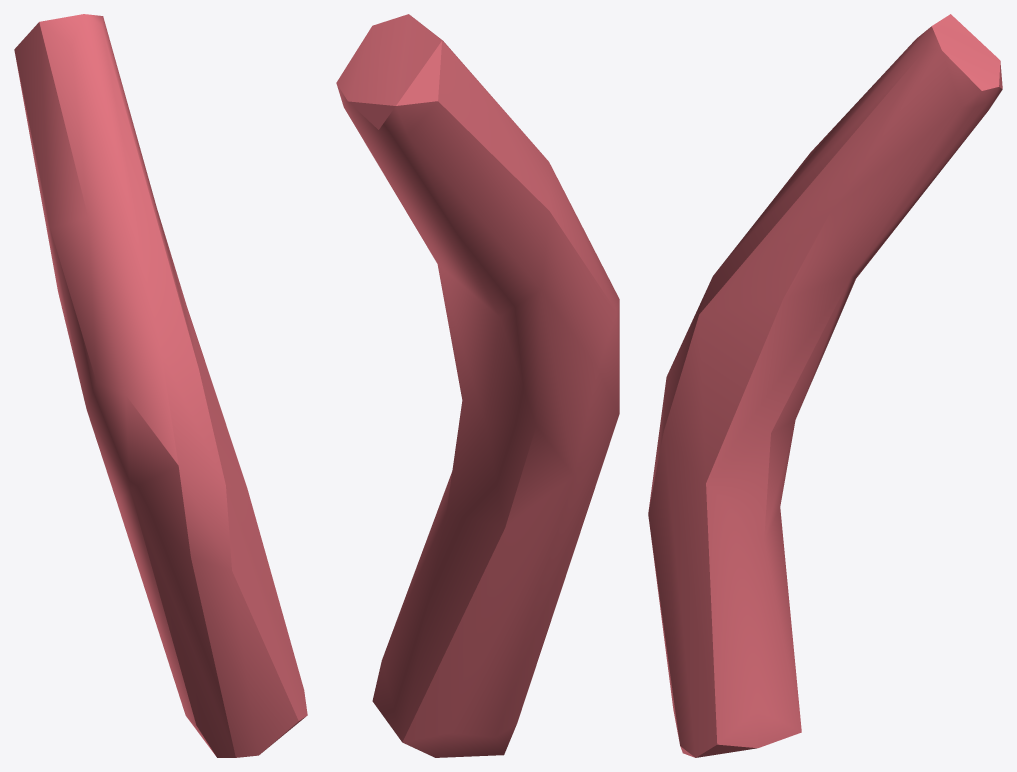
File: fma8617_fj6085.glb
3 renders of one model, left to right at view 1: azimuth 30°, elevation 25°; view 2: azimuth 150°, elevation 25°; view 3: azimuth 270°, elevation 25°, orthographic. The views are drawn at different scales.
Visible parts, largest first — view 1: FMA8617_FJ6085; view 2: FMA8617_FJ6085; view 3: FMA8617_FJ6085.
Boxes of the visible parts, bbox=[...] form: FMA8617_FJ6085: bbox=[14, 14, 307, 757]; FMA8617_FJ6085: bbox=[336, 14, 619, 757]; FMA8617_FJ6085: bbox=[648, 14, 1002, 757].
Size of the model in its own units: 0.00455 by 0.0151 by 0.00687.
